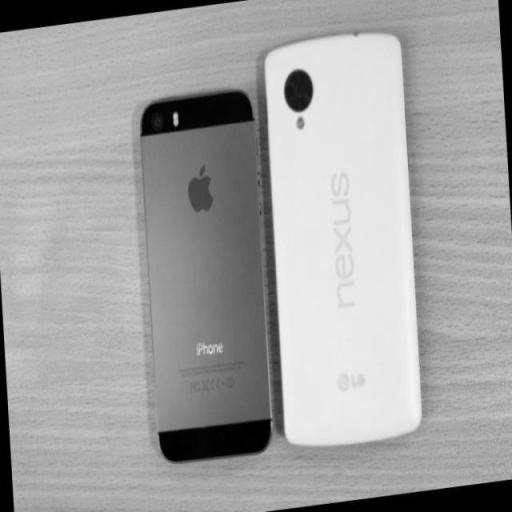phone: (268, 24, 432, 460), (139, 85, 275, 468)
